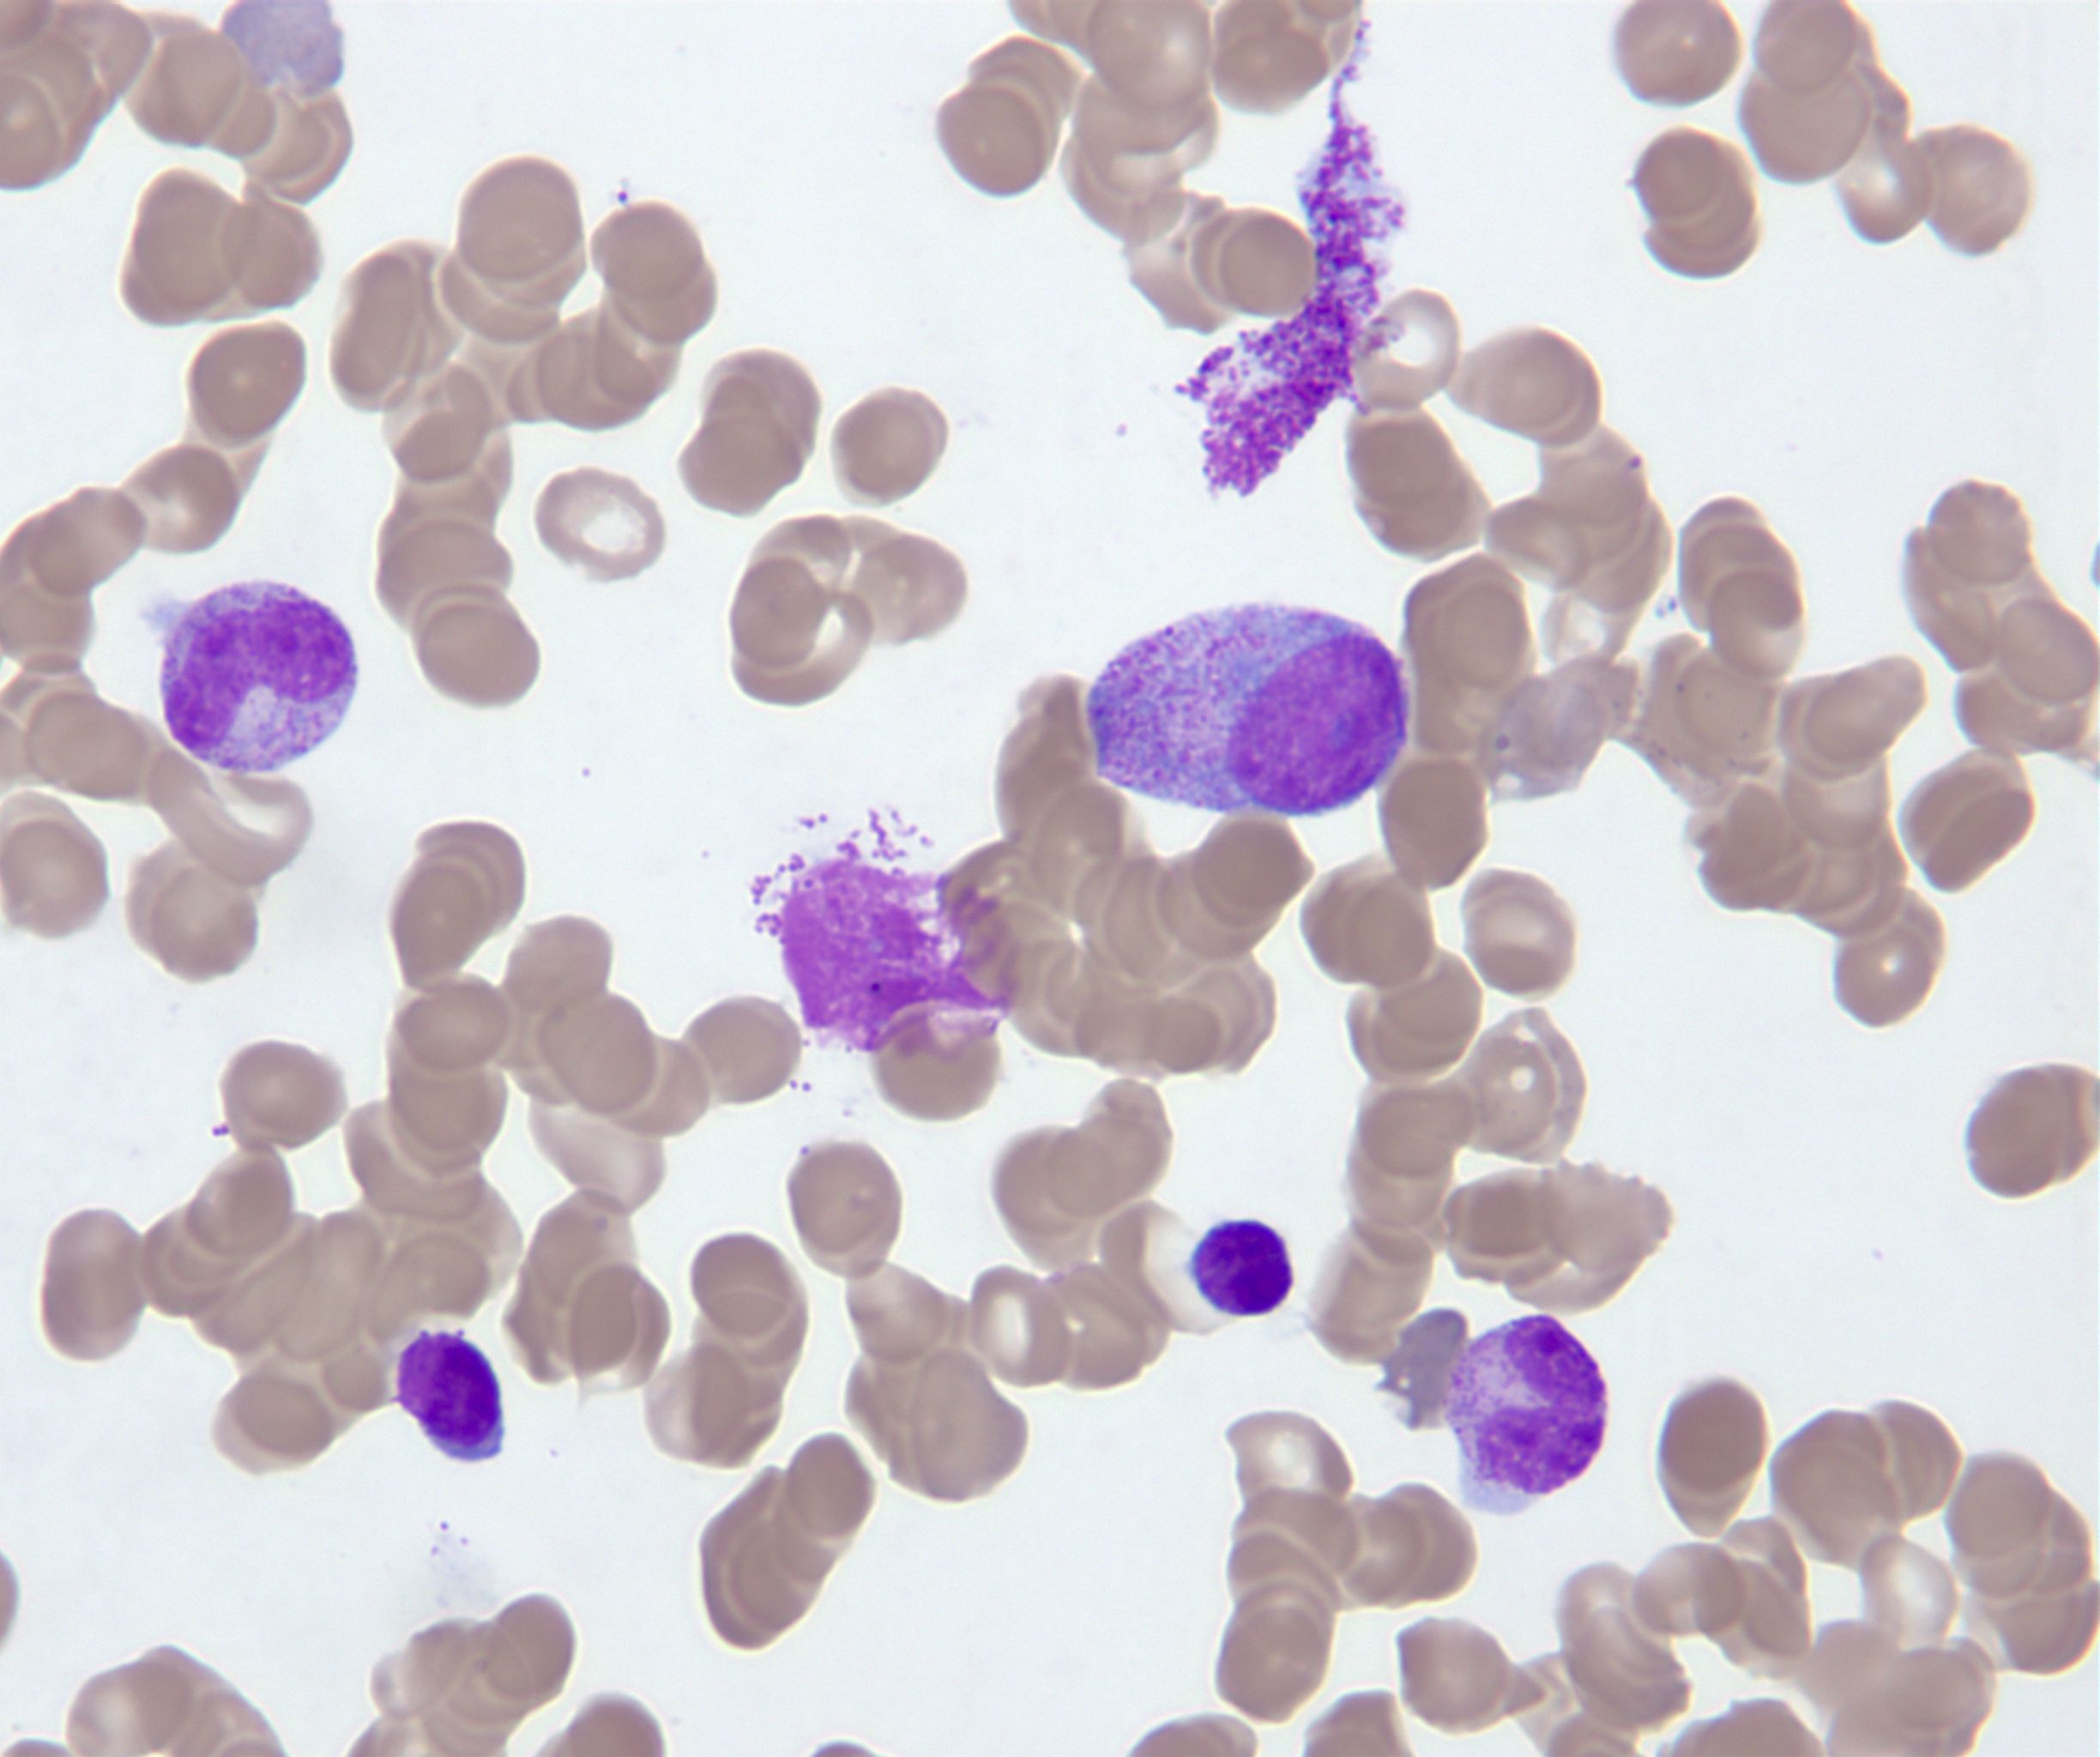3: (1087, 602, 1406, 817), (145, 579, 358, 773)
32: (396, 1331, 504, 1462), (1188, 1221, 1291, 1317)
4: (1446, 1314, 1606, 1516)
x: (1169, 12, 1404, 499), (778, 860, 1020, 1050)
